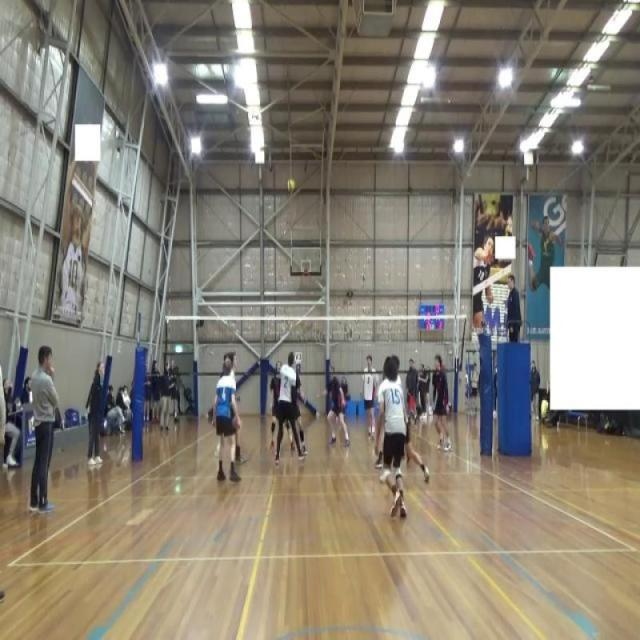volleyball: (286, 176, 296, 194)
